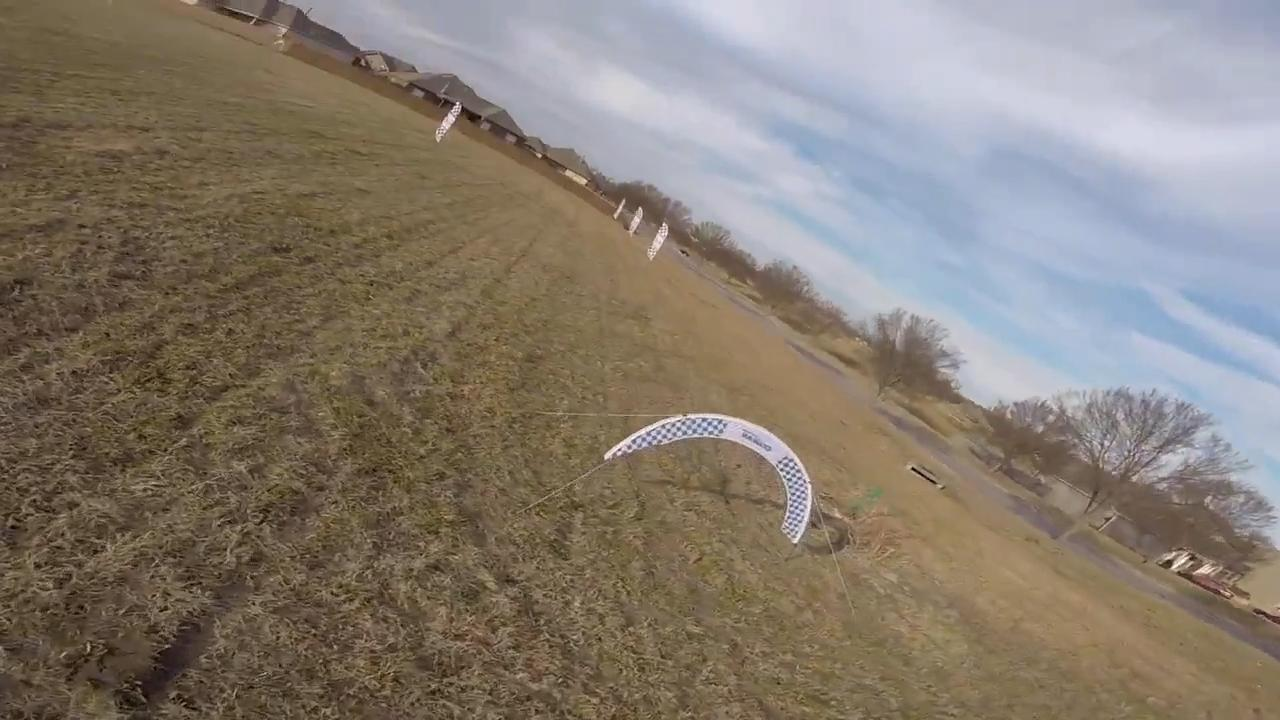gate: (603, 412, 814, 542)
